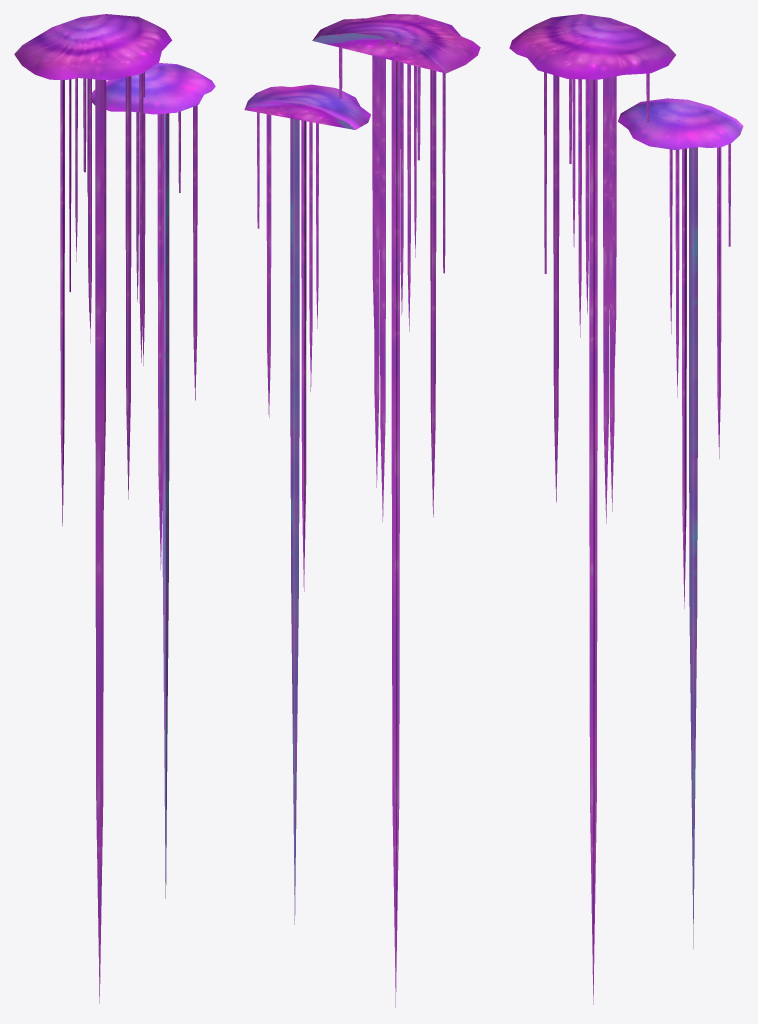
Rendered from h5_lingzhi_c.FBX.
3 renders of one model, left to right at view 1: azimuth 30°, elevation 25°; view 2: azimuth 150°, elevation 25°; view 3: azimuth 330°, elevation 25°, orthographic.
Parts seen in each view (by area): view 1: h5_lingzhi_c; view 2: h5_lingzhi_c; view 3: h5_lingzhi_c.
Part boxes in pixels (<box>): h5_lingzhi_c: <box>14,14,215,1003</box>; h5_lingzhi_c: <box>244,14,480,1007</box>; h5_lingzhi_c: <box>509,14,743,1004</box>.
Bounding box in the file's own units: 5.1 × 24 × 3.
Materials: 1 (1 with a texture image).
